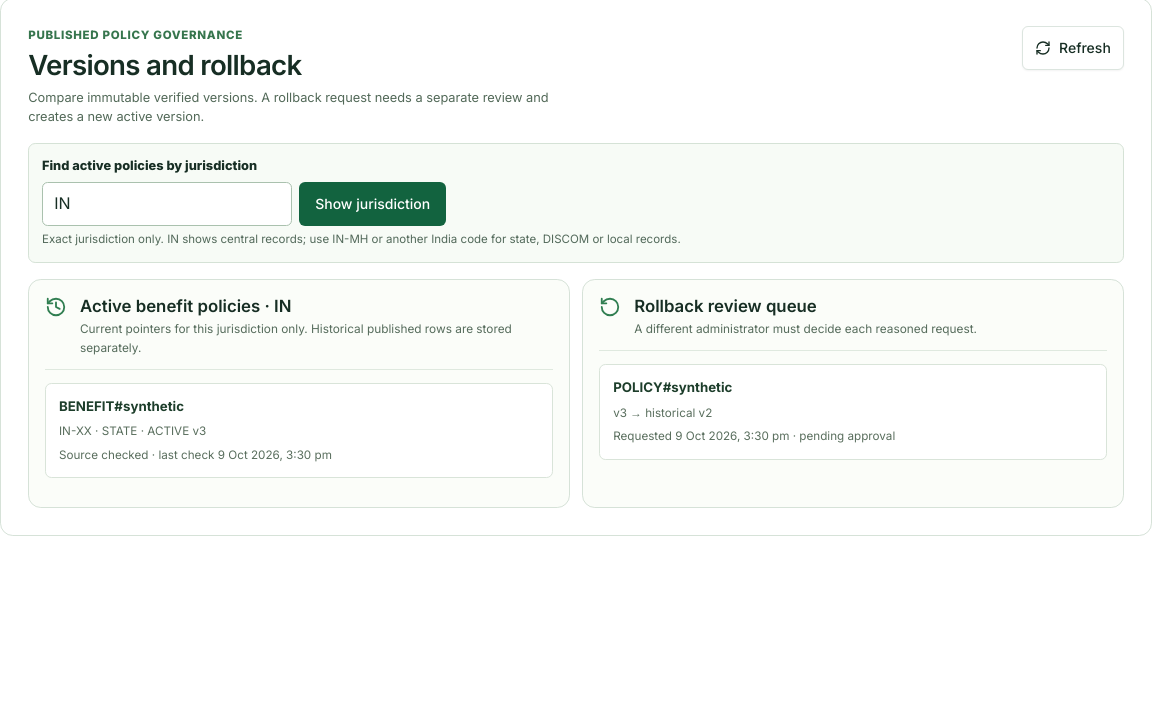
published policy version console › keeps approval blocked for stale, changed targets while permitting reasoned rejection
This screenshot has width=1152, height=718.
Click the button "POLICY#synthetic" at x=673, y=387, box [599,364,1107,460]
(page scrolled)
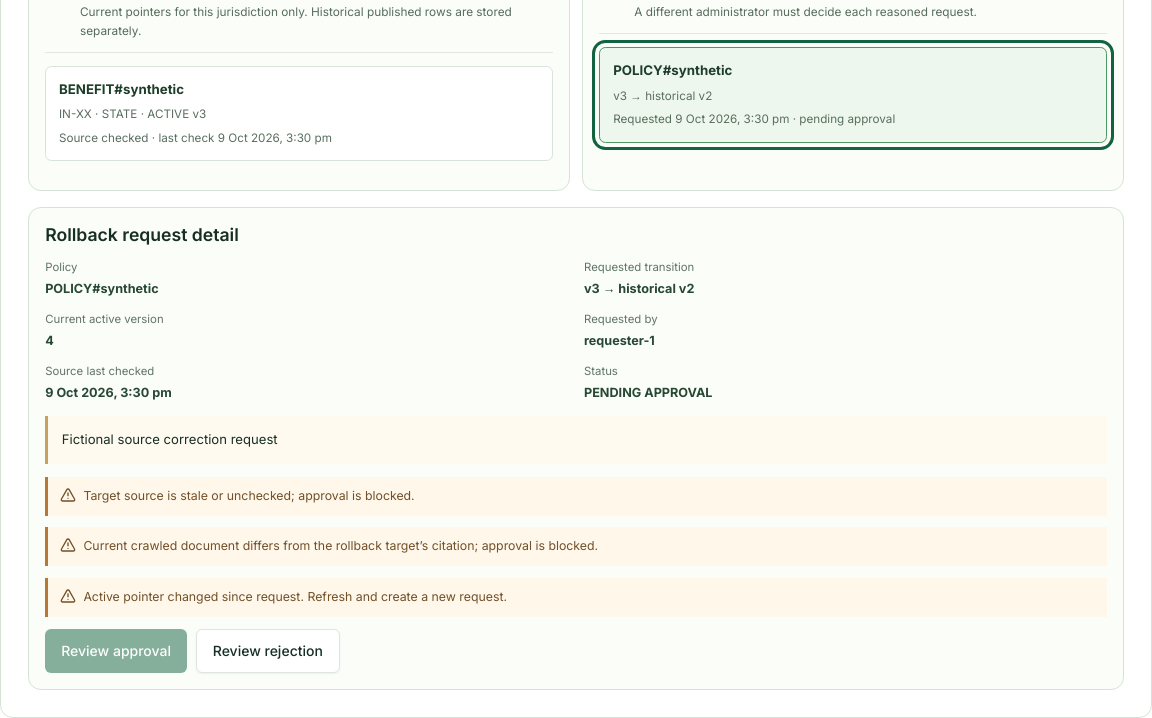
Check: the text "Current crawled document differs from the rollback target" is shown, box [83,538,598,554]
Check: the button "Review approval" is disabled, box [45,629,187,673]
Click the button "Review rejection" at x=268, y=651, box [196,629,340,673]
(page scrolled)
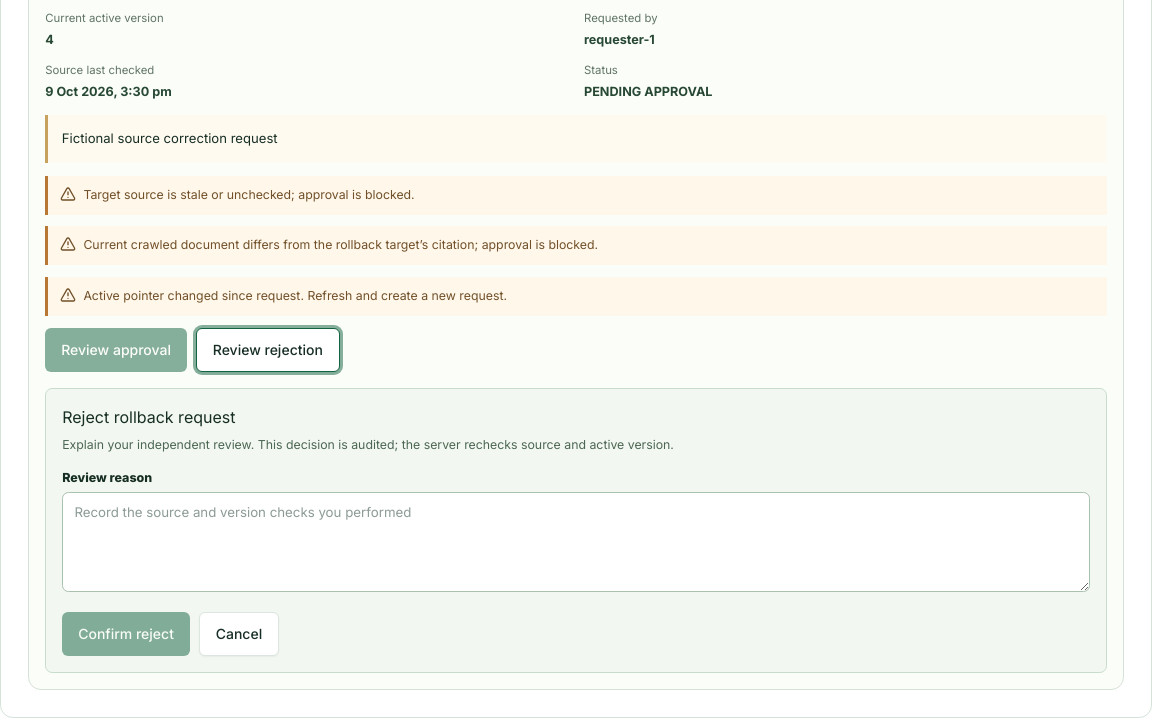
Type "Active pointer moved and document changed" into the text box labelled "Review reason" at x=576, y=542, box [62,492,1090,592]
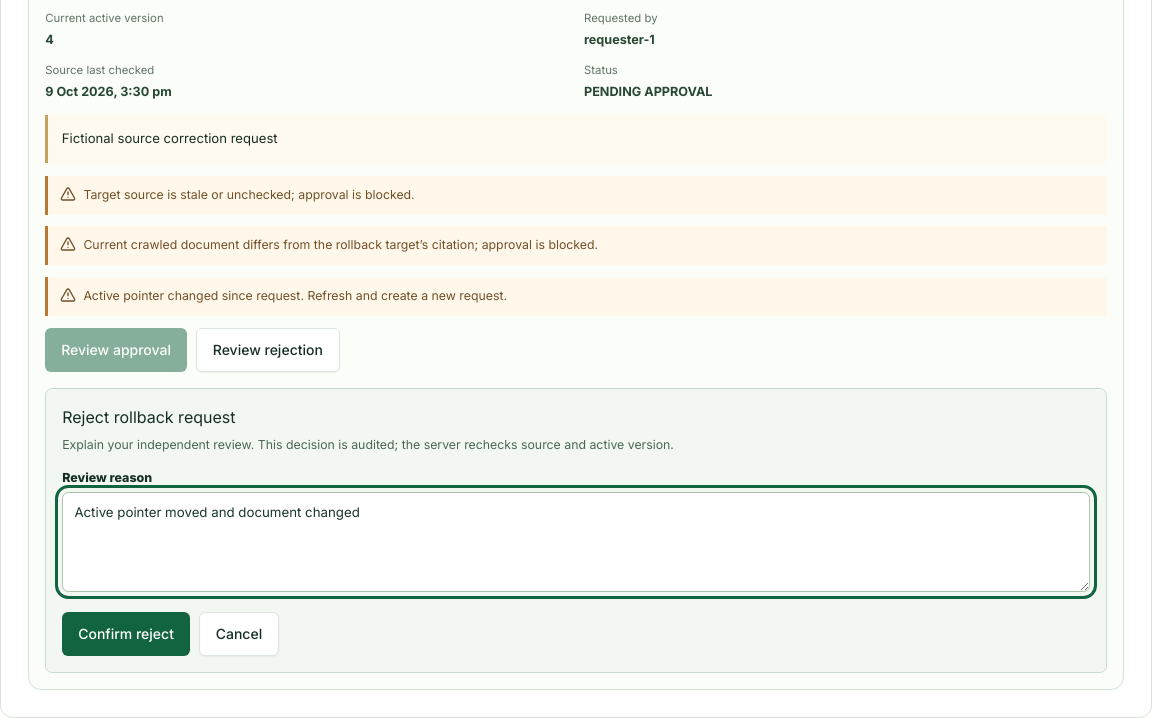
Click the button "Confirm reject" at x=126, y=634, box [62,612,190,656]
(page scrolled)
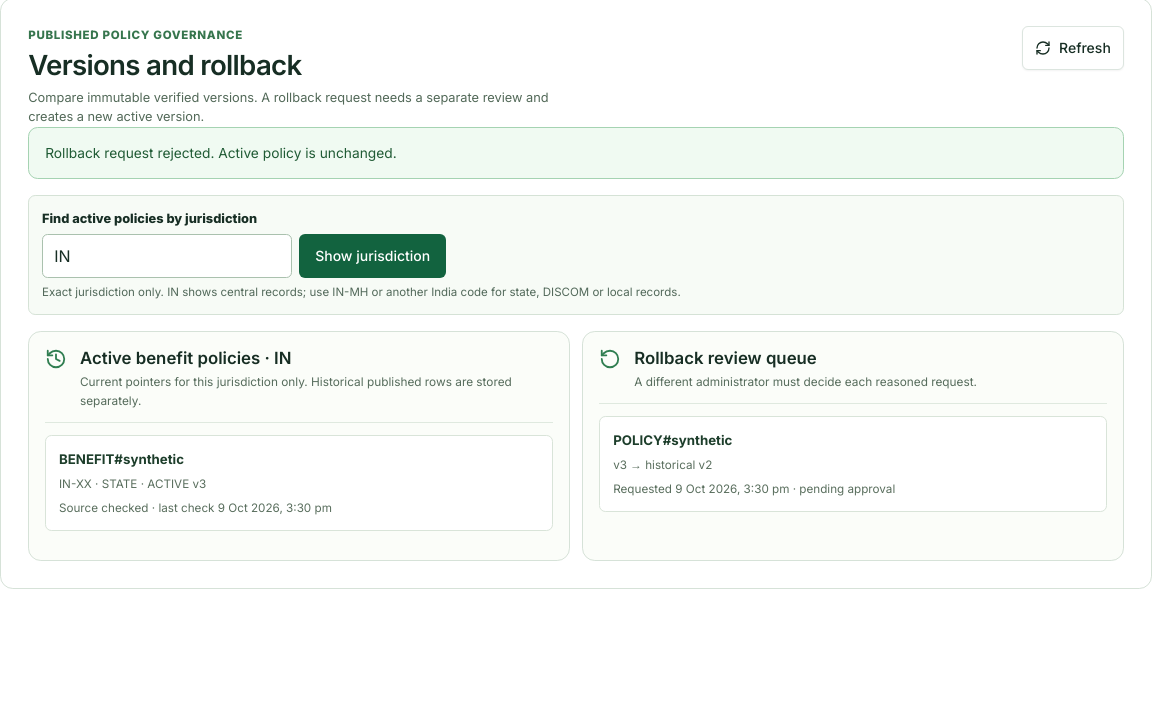
Check: the text "Rollback request rejected. Active policy is unchanged." is shown, box [28,126,1124,179]
